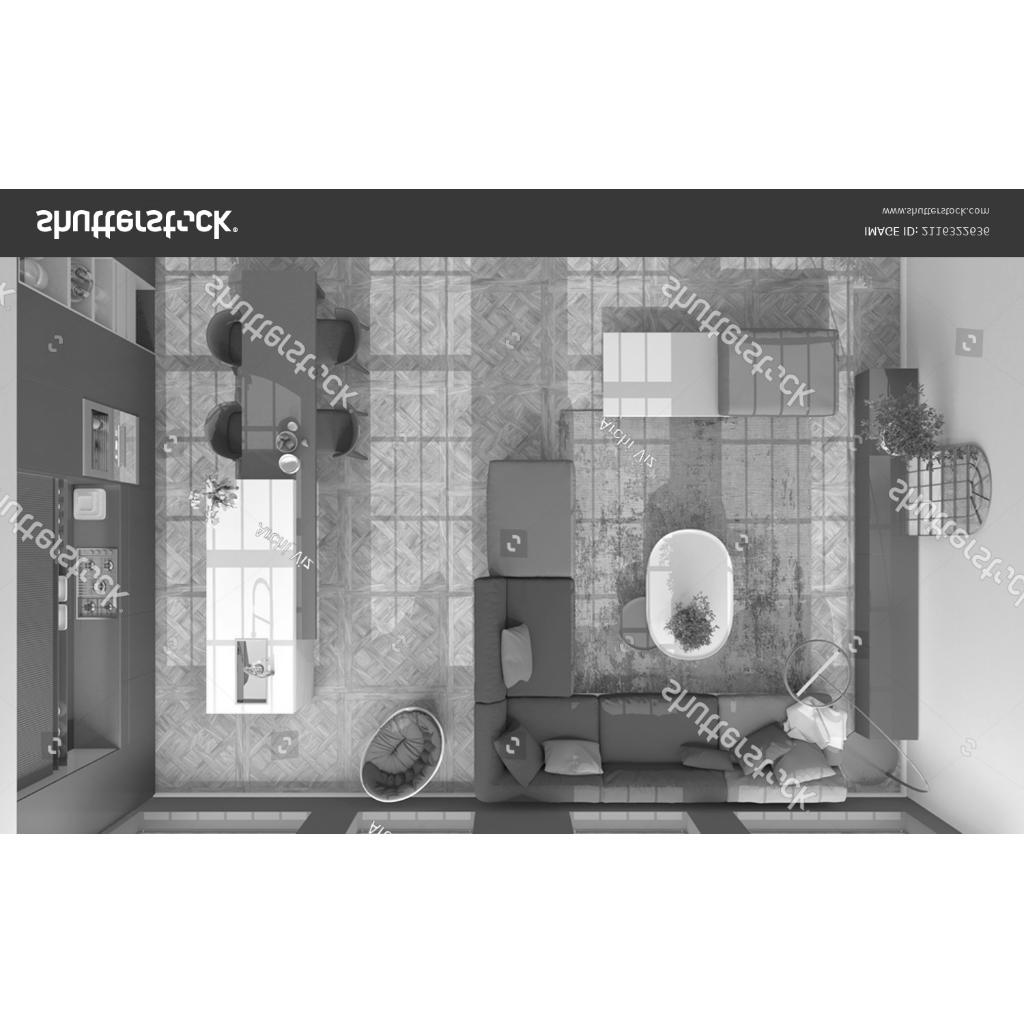chair: (474, 578, 572, 698), (360, 709, 444, 801), (316, 305, 370, 373), (314, 405, 368, 461), (205, 308, 241, 372), (204, 402, 242, 460)
coffee table: (620, 530, 734, 658)
dining table: (239, 270, 317, 480)
floor lamp: (845, 742, 899, 790)
kitchen island: (207, 478, 317, 716)
modular kitchen: (19, 260, 151, 808)
ottoman: (720, 330, 840, 416), (605, 332, 719, 418), (490, 462, 572, 576)
rug: (560, 411, 810, 733)
sideboard: (854, 368, 920, 738)
sofa: (474, 704, 846, 802)
window: (746, 816, 930, 834), (154, 814, 306, 834), (571, 816, 697, 834), (349, 817, 475, 833)
